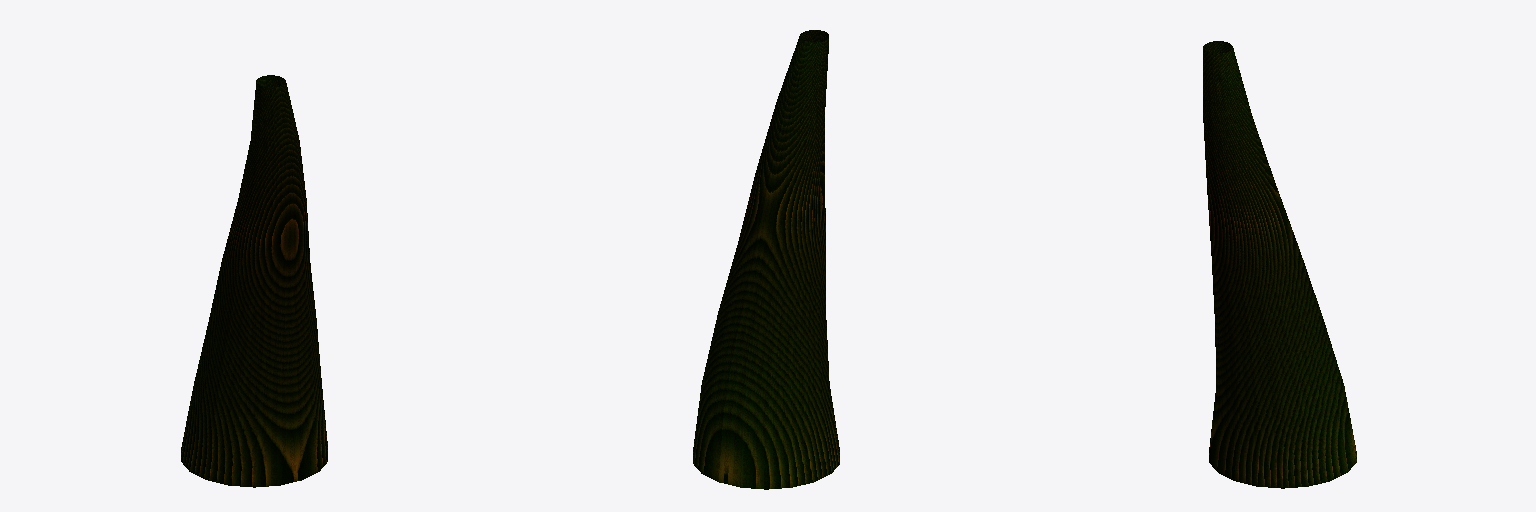
The picture shows the model from 3 angles: view 1: azimuth 30°, elevation 25°; view 2: azimuth 150°, elevation 25°; view 3: azimuth 270°, elevation 25°; orthographic projection.
Bounding box in the file's own units: 2 × 5.92 × 2.04.
1 materials, 1 textured.